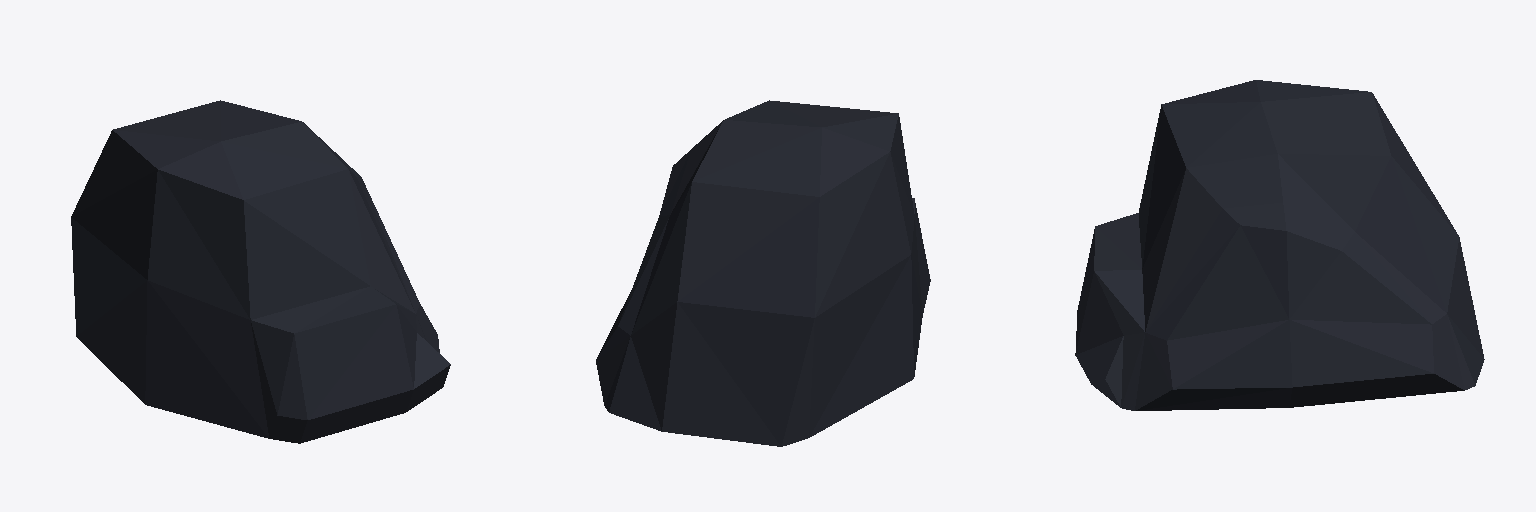
The model's file is Rock_5.obj.
3 renders of one model, left to right at view 1: azimuth 30°, elevation 25°; view 2: azimuth 150°, elevation 25°; view 3: azimuth 270°, elevation 25°, orthographic.
Visible parts, largest first — view 1: Rock_5_Cube.024; view 2: Rock_5_Cube.024; view 3: Rock_5_Cube.024.
Part boxes in pixels (x1,y1,x2,y2): Rock_5_Cube.024: (71, 100, 450, 443); Rock_5_Cube.024: (596, 100, 930, 446); Rock_5_Cube.024: (1075, 80, 1484, 410).
Bounding box in the file's own units: 0.6632 × 0.6528 × 0.9148.